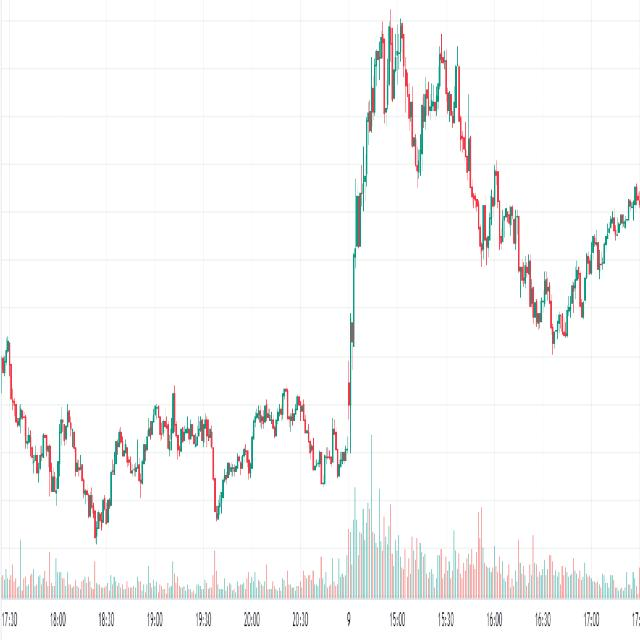Double-Bottom: (474, 194, 495, 262)
Inverse-Head-Shoulders: (400, 18, 443, 192)
